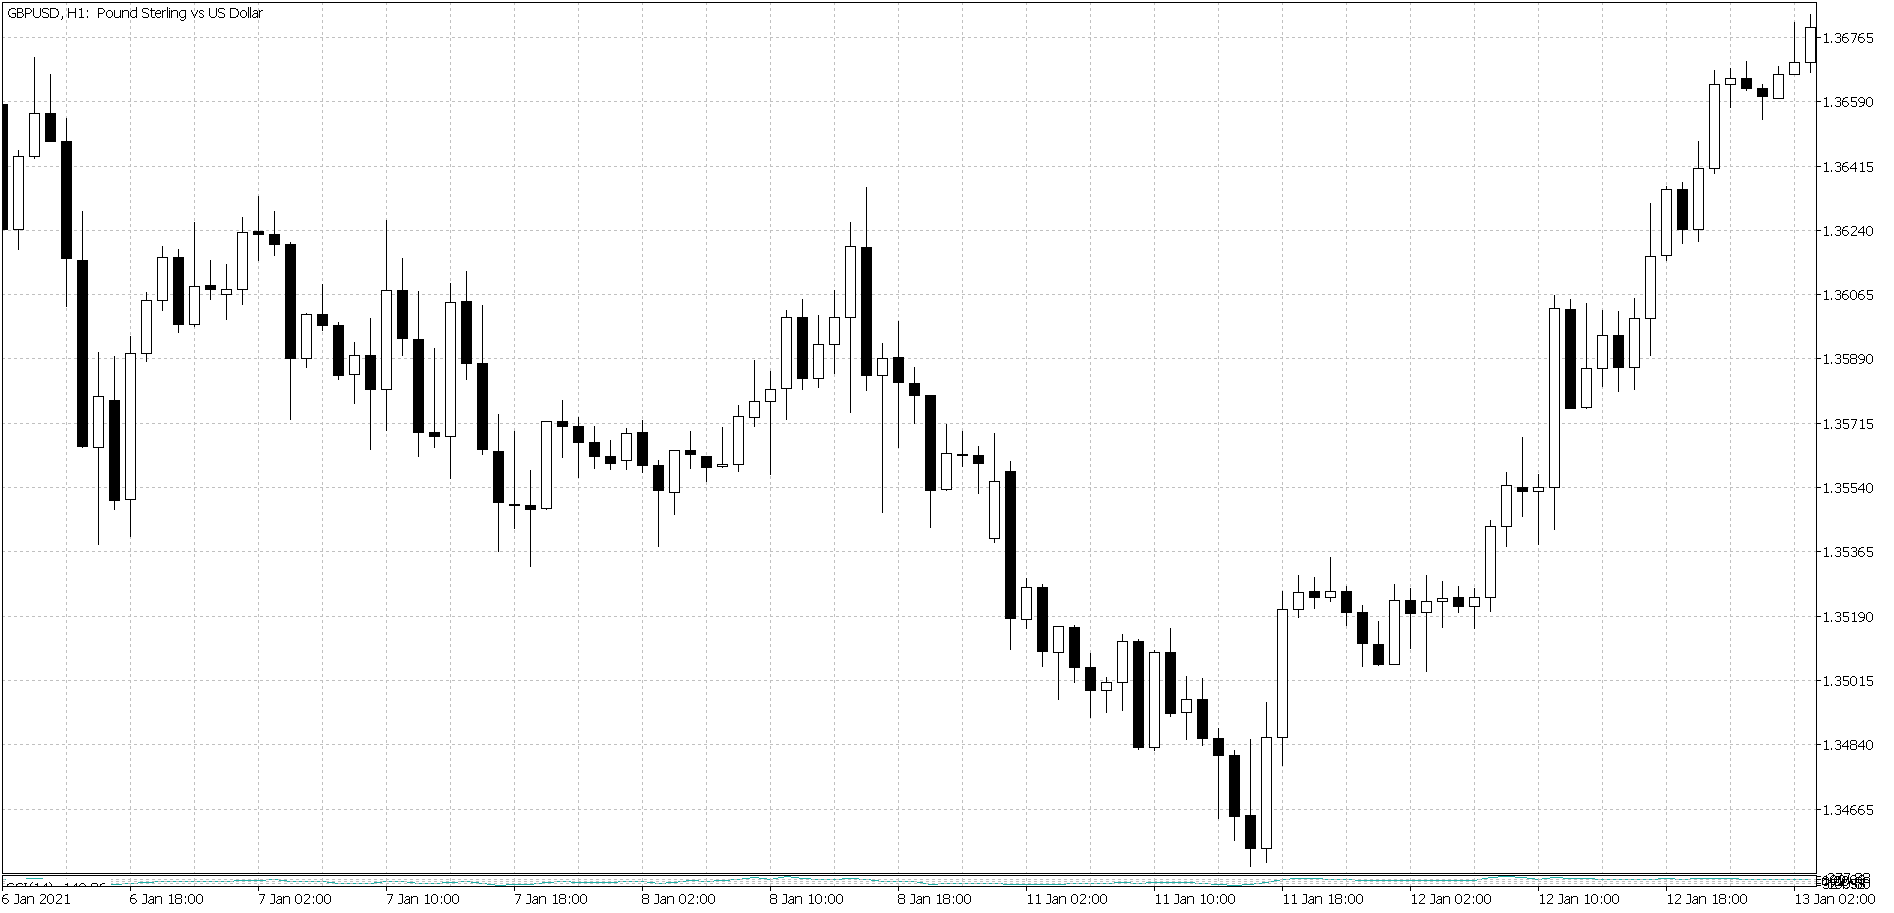3blackcrows: (459, 251, 509, 556)
bearishEngulfing: (843, 181, 875, 409)
bullishEngulfing: (1243, 719, 1274, 865), (1370, 580, 1400, 681)
eveningStar: (666, 419, 715, 514)
hammer: (1530, 471, 1544, 556)
